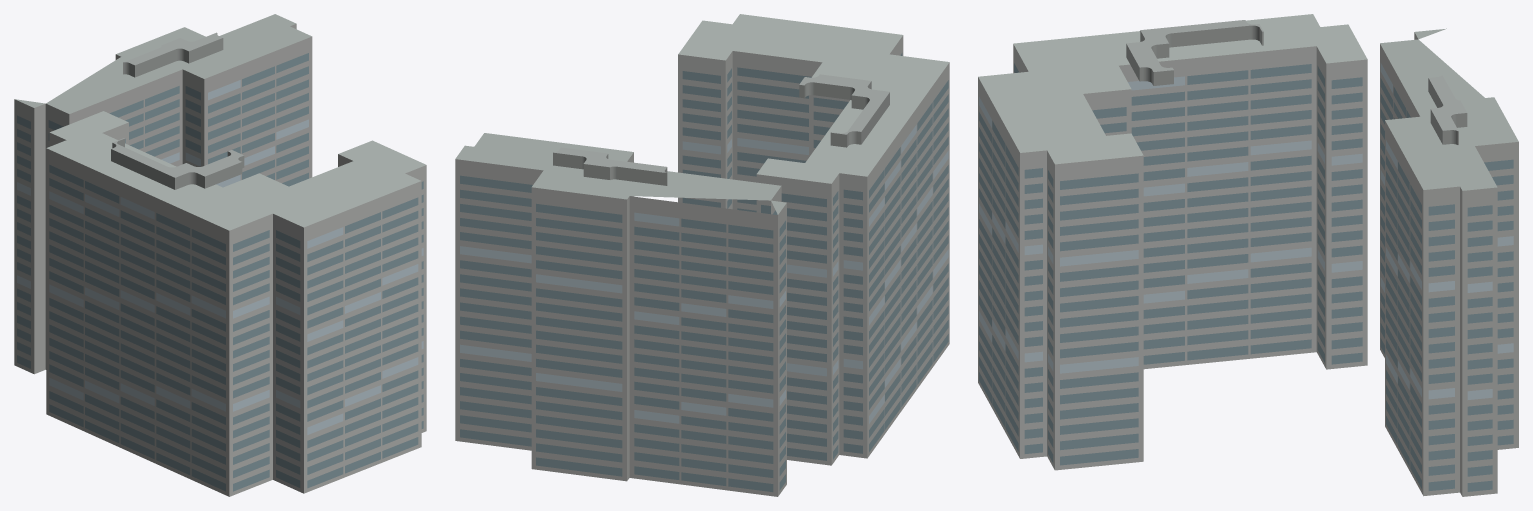
The model's file is apt-a13086703.glb.
3 views of the same model, side by side, from view 1: azimuth 30°, elevation 25°; view 2: azimuth 150°, elevation 25°; view 3: azimuth 270°, elevation 25° (orthographic). The views are drawn at different scales.
Visible parts, largest first — view 1: apt-a13086703; view 2: apt-a13086703; view 3: apt-a13086703.
Part boxes in pixels (x1,y1,x2,y2): apt-a13086703: (14,14,426,496); apt-a13086703: (455,14,949,496); apt-a13086703: (978,14,1518,496).
Bounding box in the file's own units: 65.21 × 55 × 84.25.
